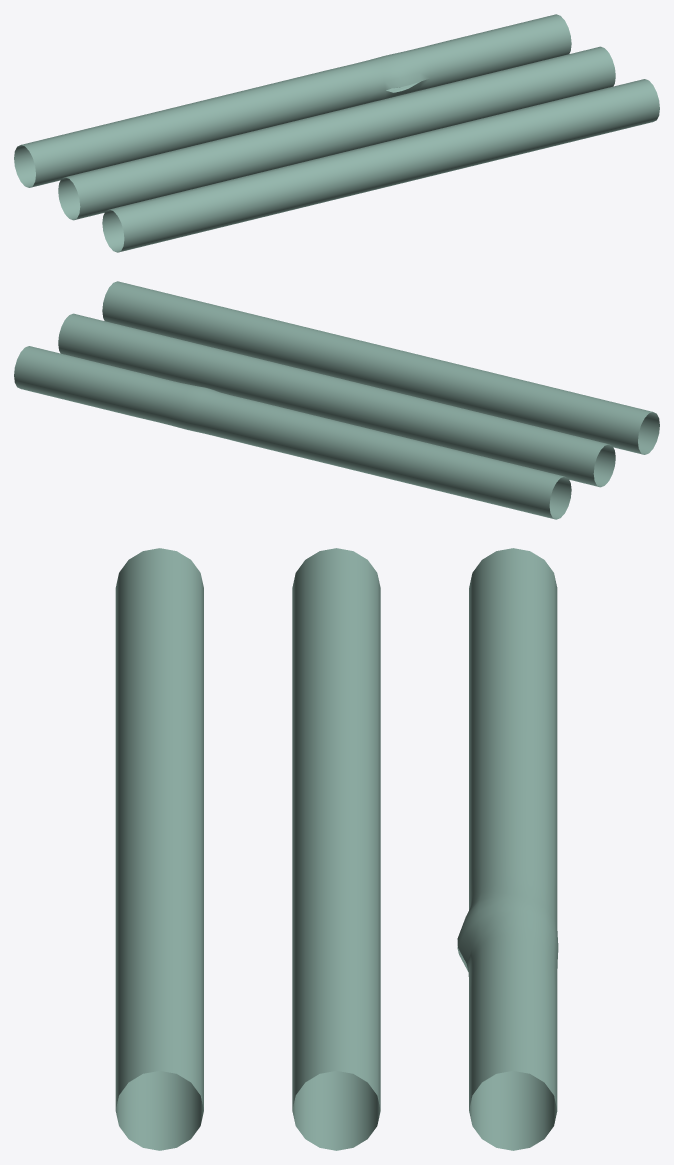
File: PipeComplexLarge_A3_02.fbx
The picture shows the model from 3 angles, top to bottom: view 1: azimuth 30°, elevation 25°; view 2: azimuth 150°, elevation 25°; view 3: azimuth 270°, elevation 25°; orthographic projection. The views are drawn at different scales.
Visible parts, largest first — view 1: PipeComplexLarge_A3_02.001; view 2: PipeComplexLarge_A3_02.001; view 3: PipeComplexLarge_A3_02.001.
Part boxes in pixels (left/top/right/bottom): PipeComplexLarge_A3_02.001: left=14, top=14, right=659, bottom=252; PipeComplexLarge_A3_02.001: left=14, top=281, right=659, bottom=519; PipeComplexLarge_A3_02.001: left=115, top=548, right=558, bottom=1150.
Size of the model in its own units: 2.8 by 0.2038 by 1.
